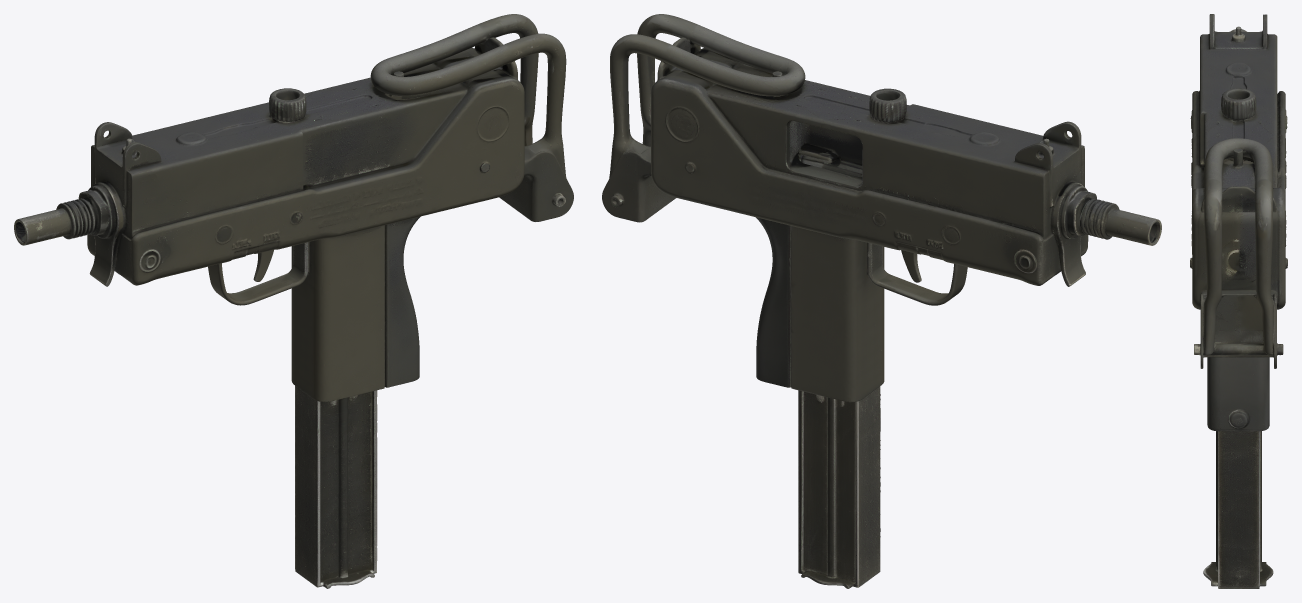
The model's file is Meshy_AI_mac10_1012115655_texture.glb.
The picture shows the model from 3 angles, left to right: view 1: azimuth 30°, elevation 25°; view 2: azimuth 150°, elevation 25°; view 3: azimuth 270°, elevation 25°; orthographic projection. The views are drawn at different scales.
Parts seen in each view (by area): view 1: mesh_node; view 2: mesh_node; view 3: mesh_node.
Boxes of the visible parts, left/top/right/bottom form: mesh_node: left=14, top=14, right=573, bottom=588; mesh_node: left=602, top=14, right=1161, bottom=588; mesh_node: left=1190, top=14, right=1287, bottom=588.
Size of the model in its own units: 1.9 by 1.71 by 0.3215.
1 material, 1 textured.
